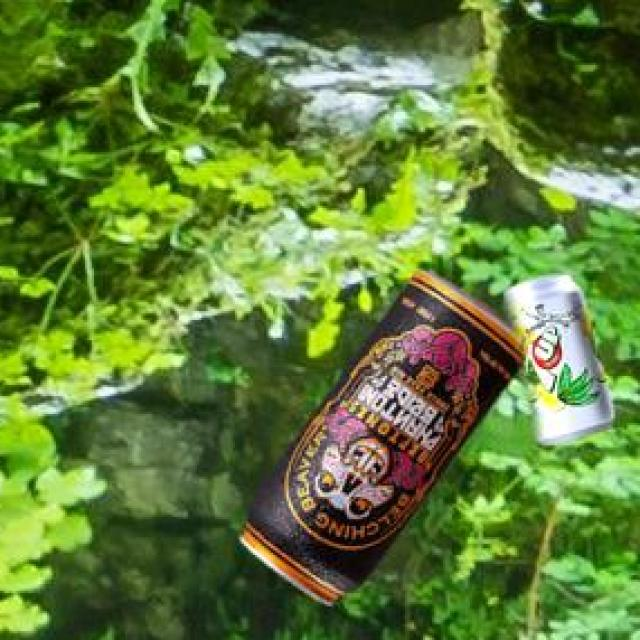logam: (243, 274, 531, 608), (509, 276, 617, 449)
